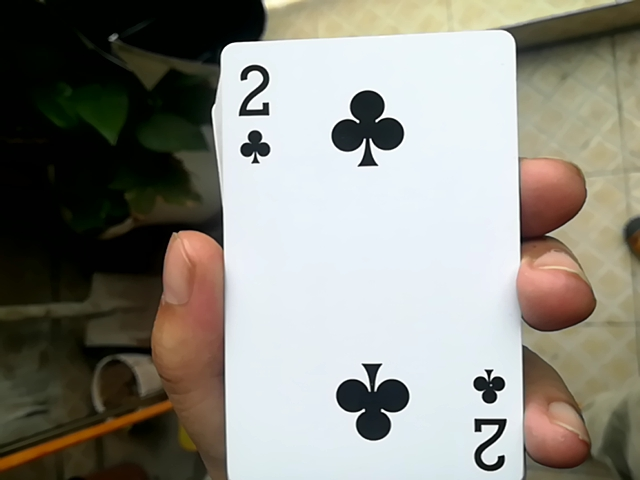mh 2: (198, 24, 529, 480)
